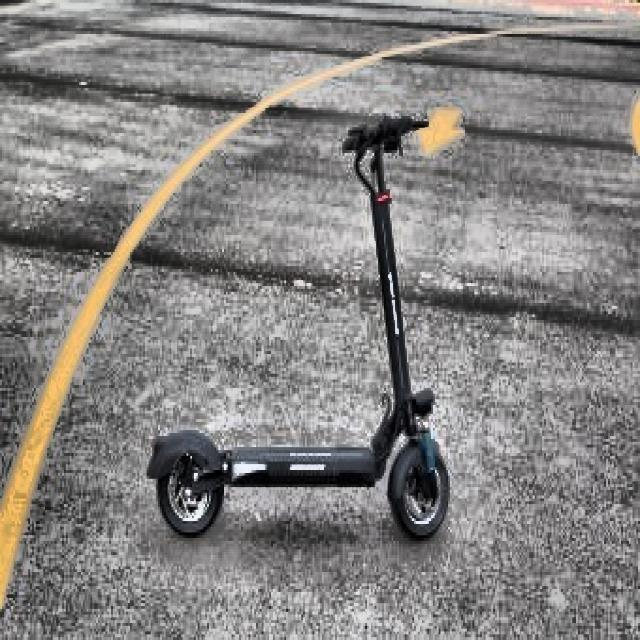bike: (146, 110, 461, 540)
